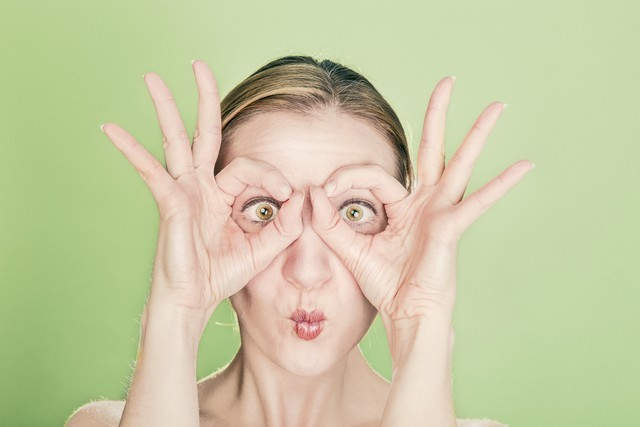Humano: (117, 49, 526, 427)
